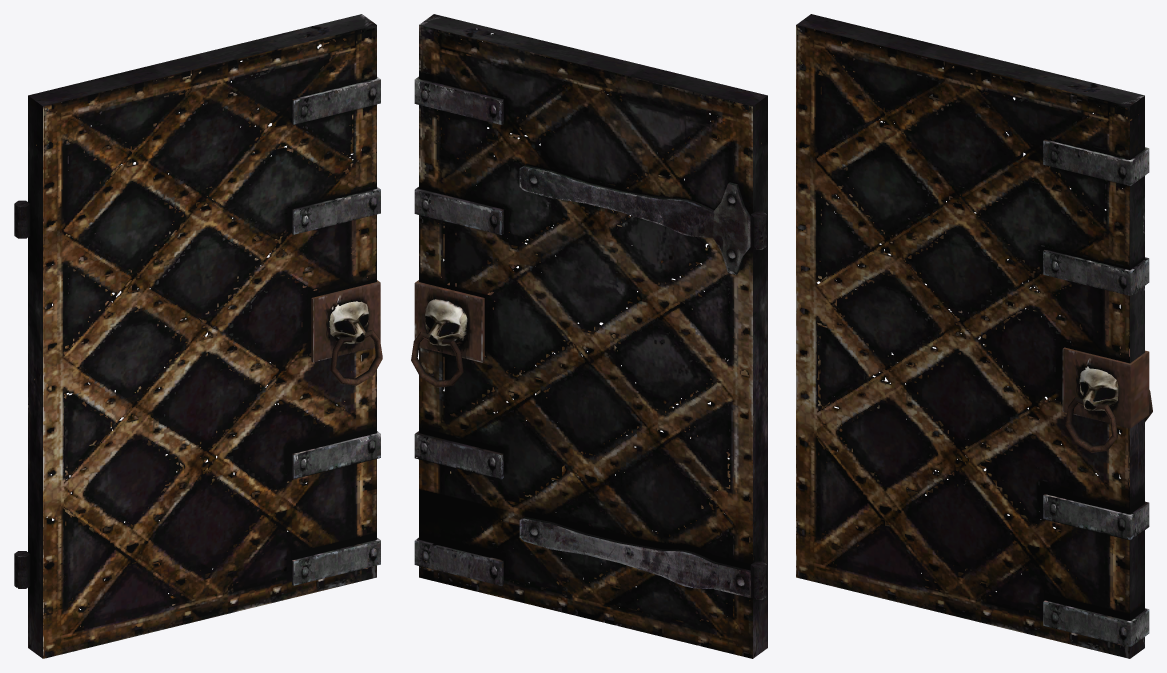
The model's file is metal_skull_broken.dae.
3 renders of one model, left to right at view 1: azimuth 30°, elevation 25°; view 2: azimuth 150°, elevation 25°; view 3: azimuth 330°, elevation 25°, orthographic.
Visible parts, largest first — view 1: group1; view 2: group1; view 3: group1.
Boxes of the visible parts, left/top/right/bottom form: group1: left=14, top=14, right=382, bottom=658; group1: left=411, top=14, right=767, bottom=658; group1: left=796, top=14, right=1152, bottom=658.
Size of the model in its own units: 1.81 by 0.4127 by 2.74.
